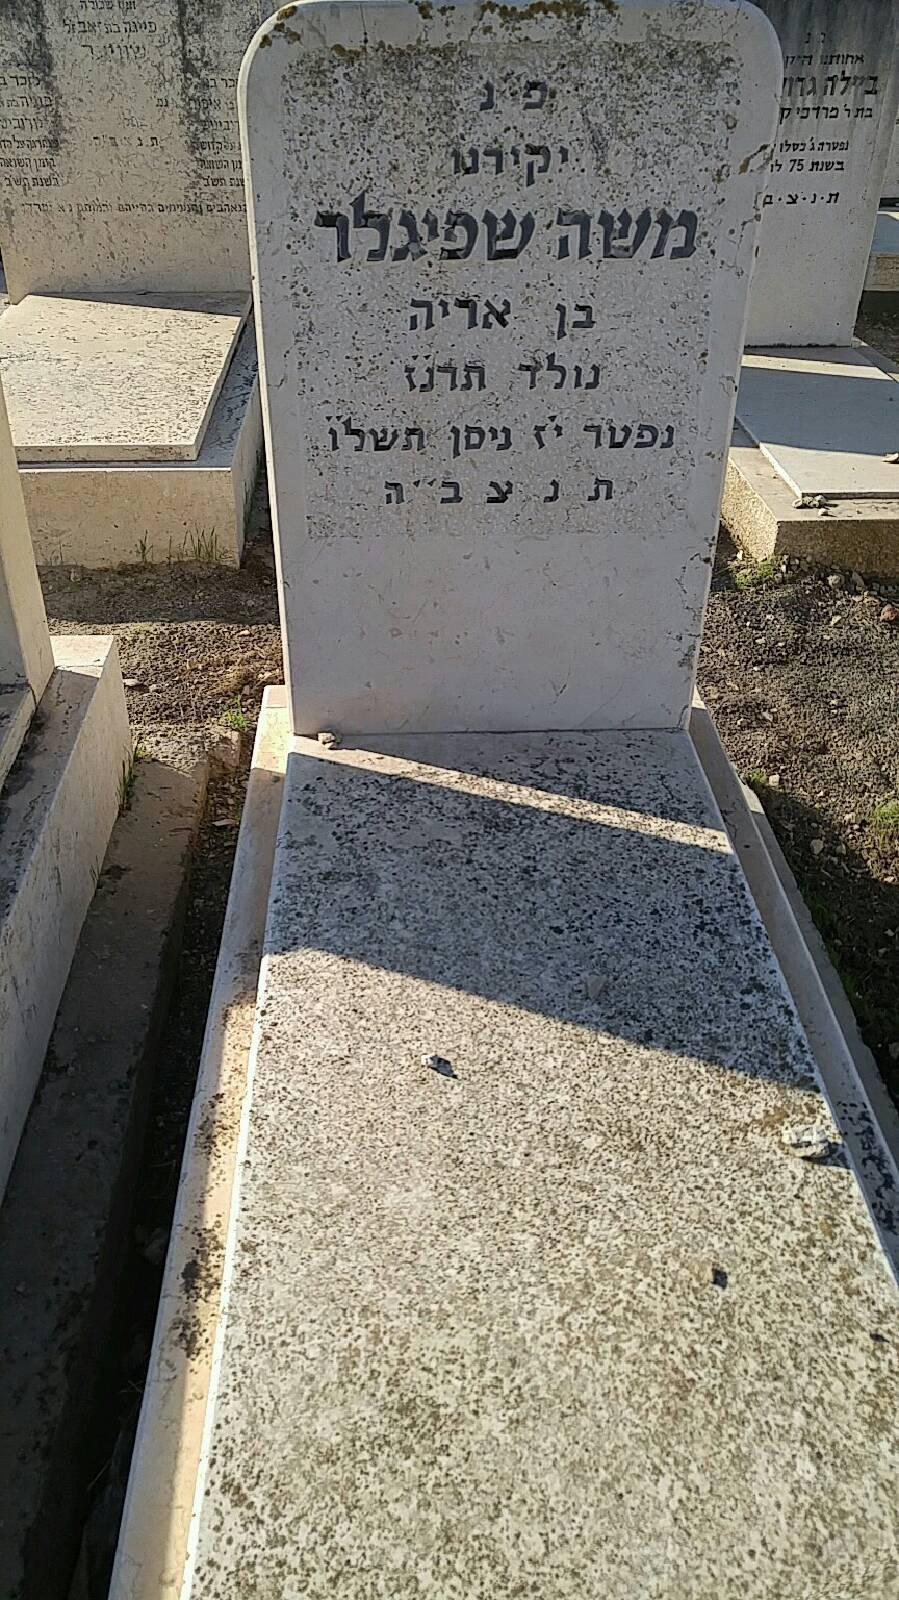vault: (88, 2, 899, 1600)
